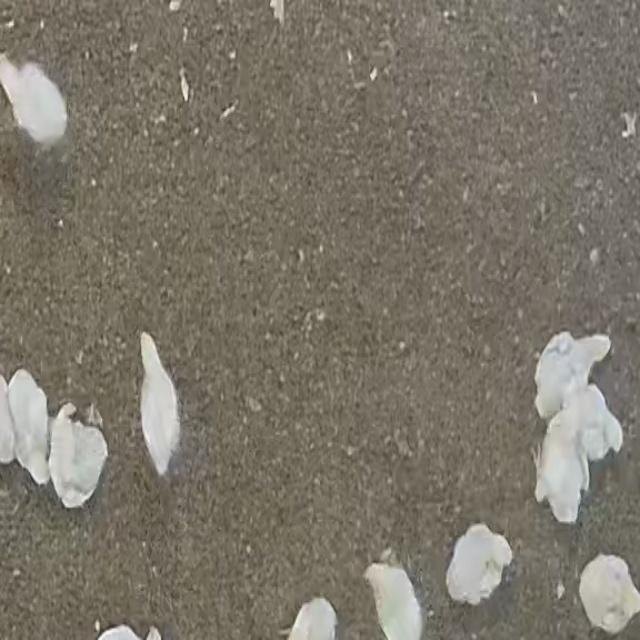chicken: (532, 331, 614, 423), (0, 58, 70, 151), (137, 330, 182, 474), (48, 402, 109, 508), (555, 371, 621, 461), (533, 414, 587, 522), (444, 524, 514, 607), (6, 369, 53, 487), (577, 551, 640, 635), (361, 557, 423, 640), (279, 597, 339, 640)
